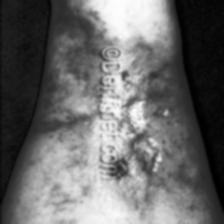Unclassified: (123, 25, 173, 224), (50, 28, 100, 200), (118, 160, 130, 176)
